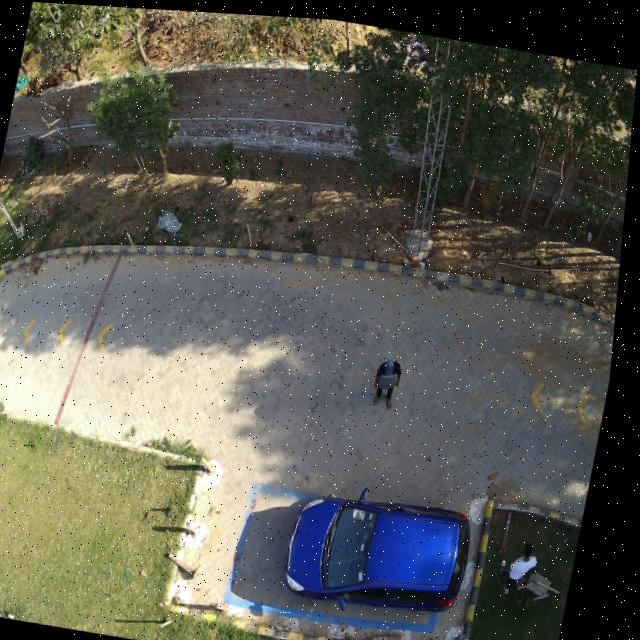car: (294, 488, 479, 607)
